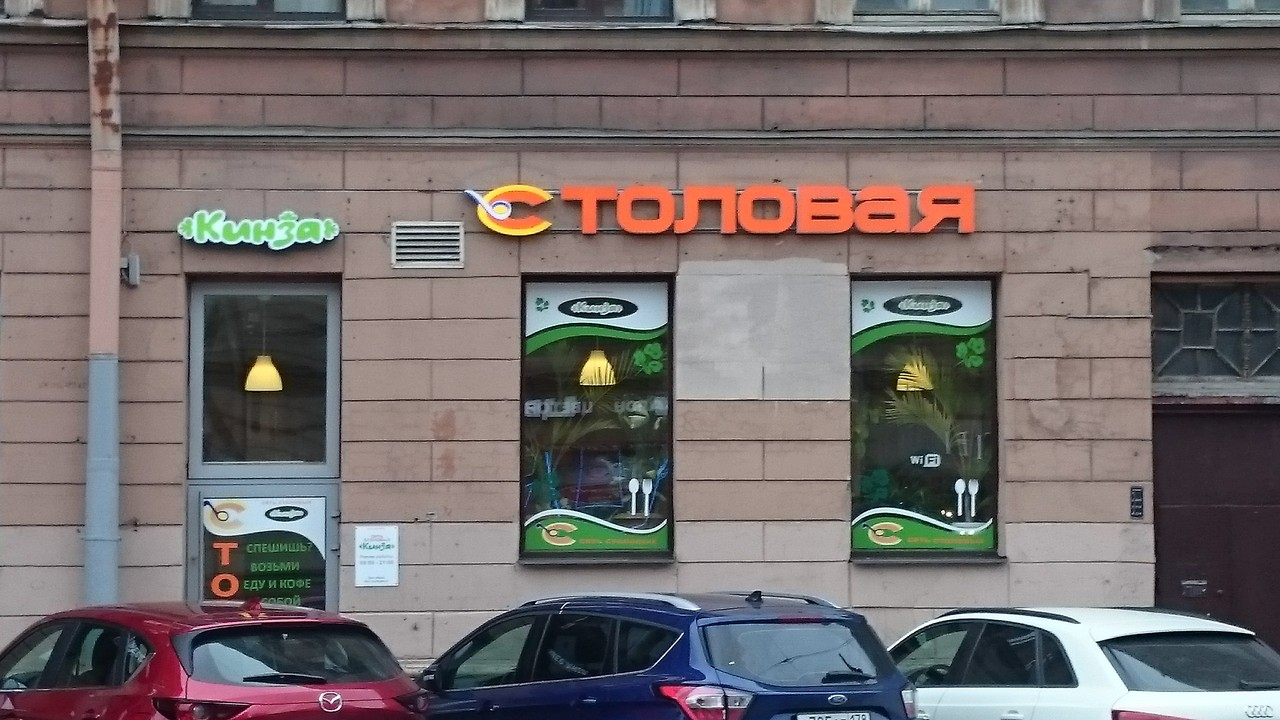signboard: (467, 184, 973, 238), (177, 207, 339, 249)
window: (848, 274, 1003, 561), (518, 280, 673, 563), (187, 278, 342, 479)
